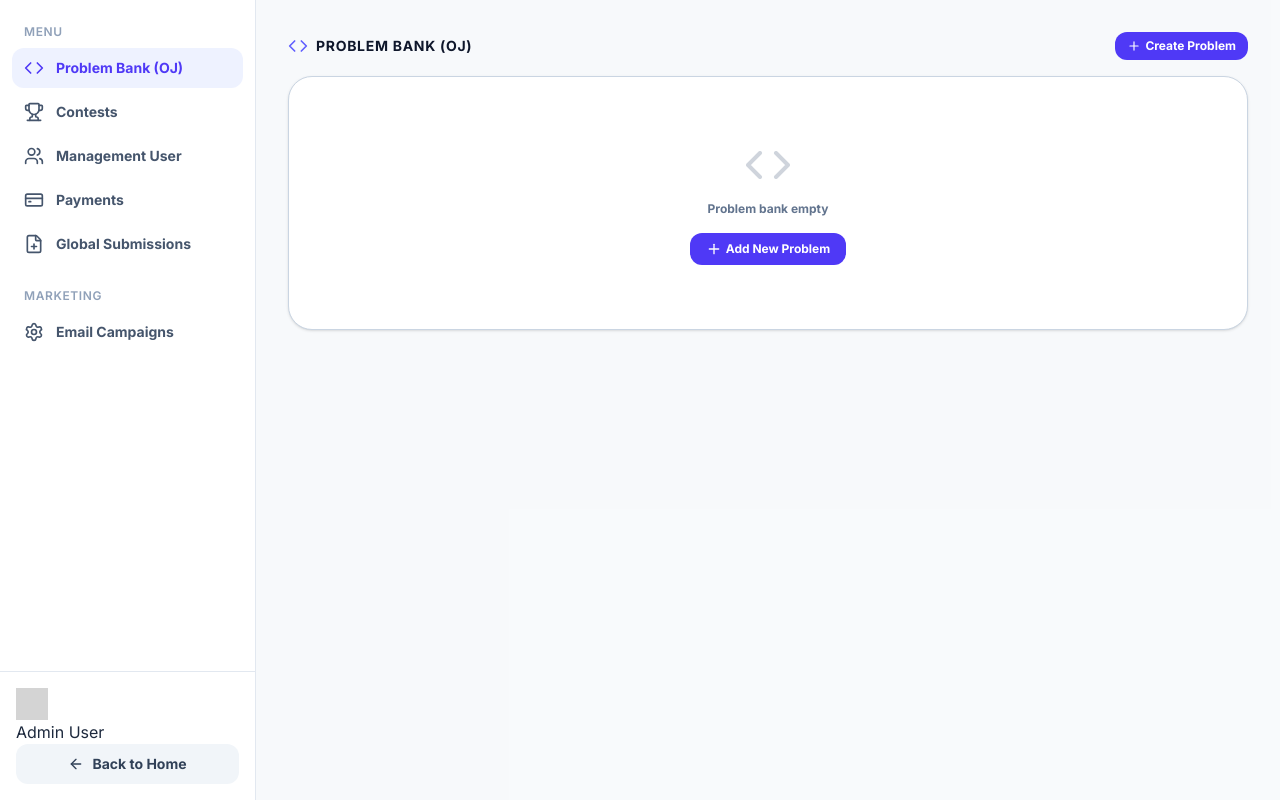
Scenario: Admin dashboard › opens problem management without loading or exposing courses
The width and height of the screenshot is (1280, 800).
Expected: the text "Problem bank empty" is shown, x1=708 y1=201 x2=828 y2=216
Click the button "Create Problem" at (1182, 46), box x1=1115 y1=32 x2=1248 y2=60
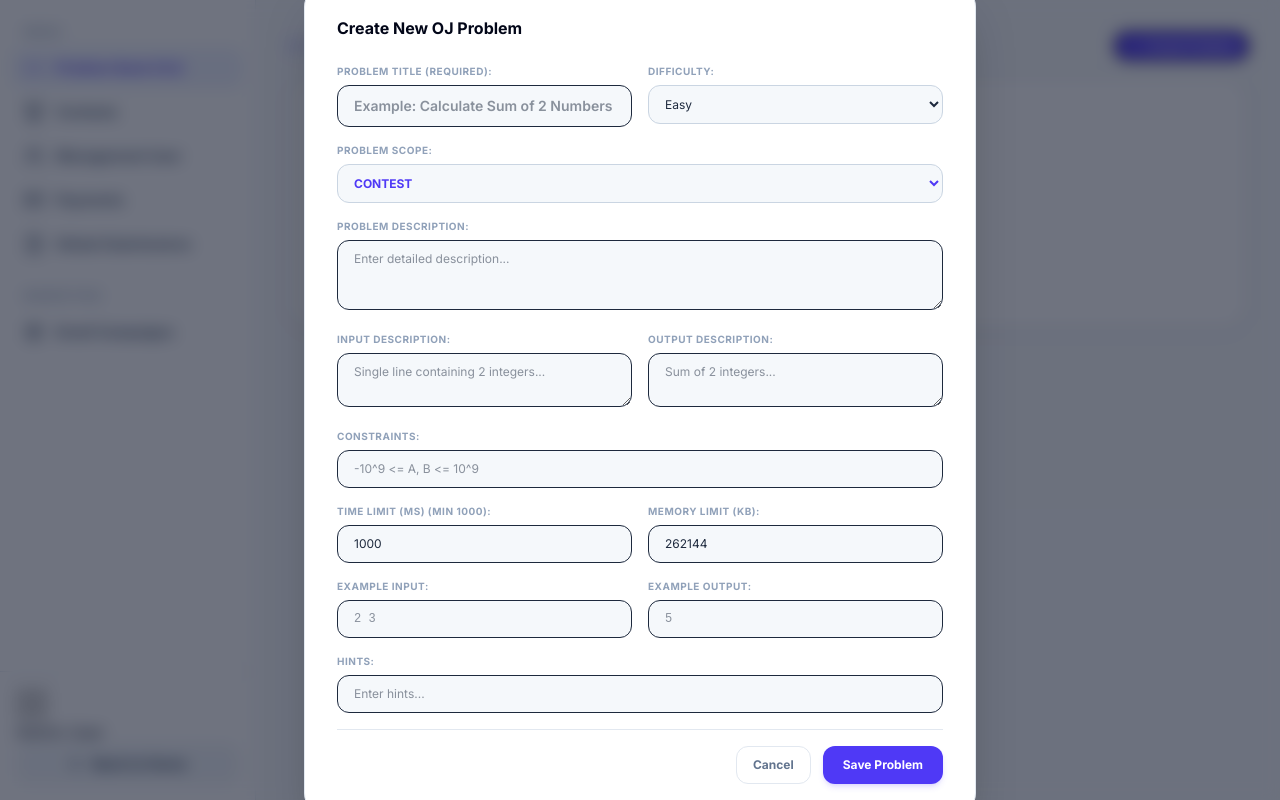
Now the heading "Create New OJ Problem" is shown, box x1=337 y1=18 x2=522 y2=38
